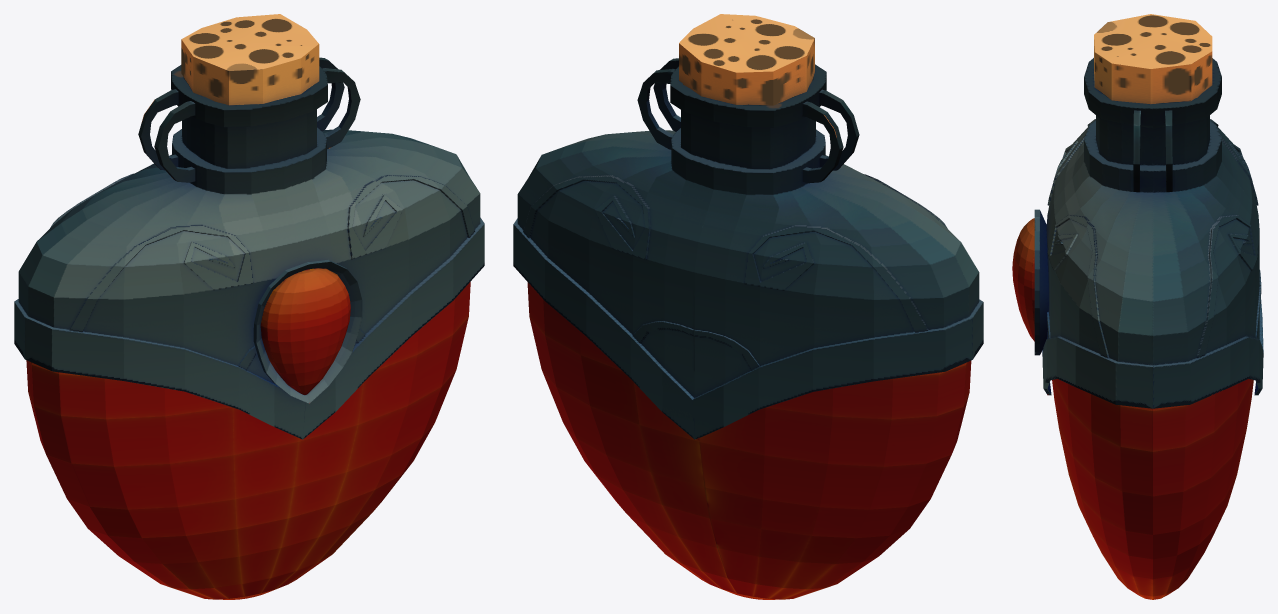
Rendered from Pocion.obj.
3 renders of one model, left to right at view 1: azimuth 30°, elevation 25°; view 2: azimuth 150°, elevation 25°; view 3: azimuth 270°, elevation 25°, orthographic.
Visible parts, largest first — view 1: MetalPlate, HealthGlass, Pump, CrystalHealth, CrystalHolder; view 2: MetalPlate, HealthGlass, Pump; view 3: MetalPlate, HealthGlass, Pump, CrystalHealth, CrystalHolder.
Part boxes in pixels (x1,y1,x2,y2): MetalPlate: (14, 57, 484, 439); HealthGlass: (26, 282, 470, 599); Pump: (181, 14, 319, 105); CrystalHealth: (260, 268, 350, 394); CrystalHolder: (253, 259, 362, 403); MetalPlate: (513, 58, 983, 439); HealthGlass: (527, 282, 971, 599); Pump: (679, 14, 814, 105); MetalPlate: (1042, 58, 1263, 408); HealthGlass: (1052, 379, 1253, 599); Pump: (1094, 14, 1212, 104); CrystalHealth: (1012, 218, 1034, 341); CrystalHolder: (1034, 209, 1048, 355).
Bounding box in the file's own units: 0.1145 × 0.1355 × 0.0563.
Materials: 1 (1 with a texture image).
